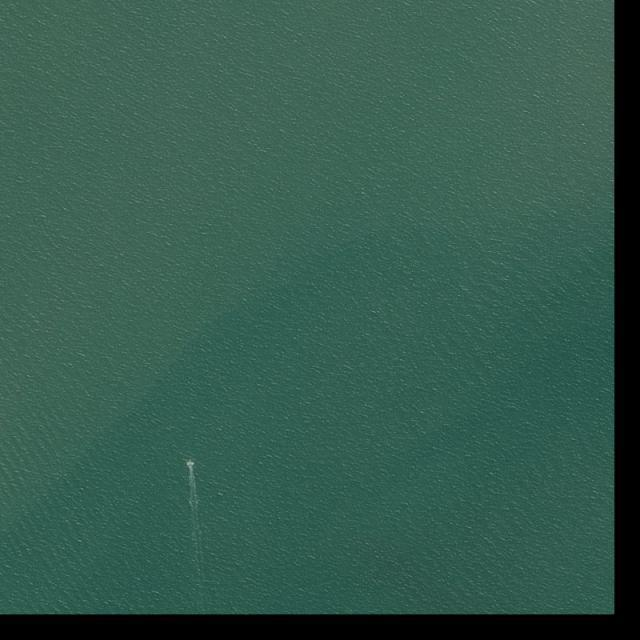ship: (190, 459, 193, 466)
